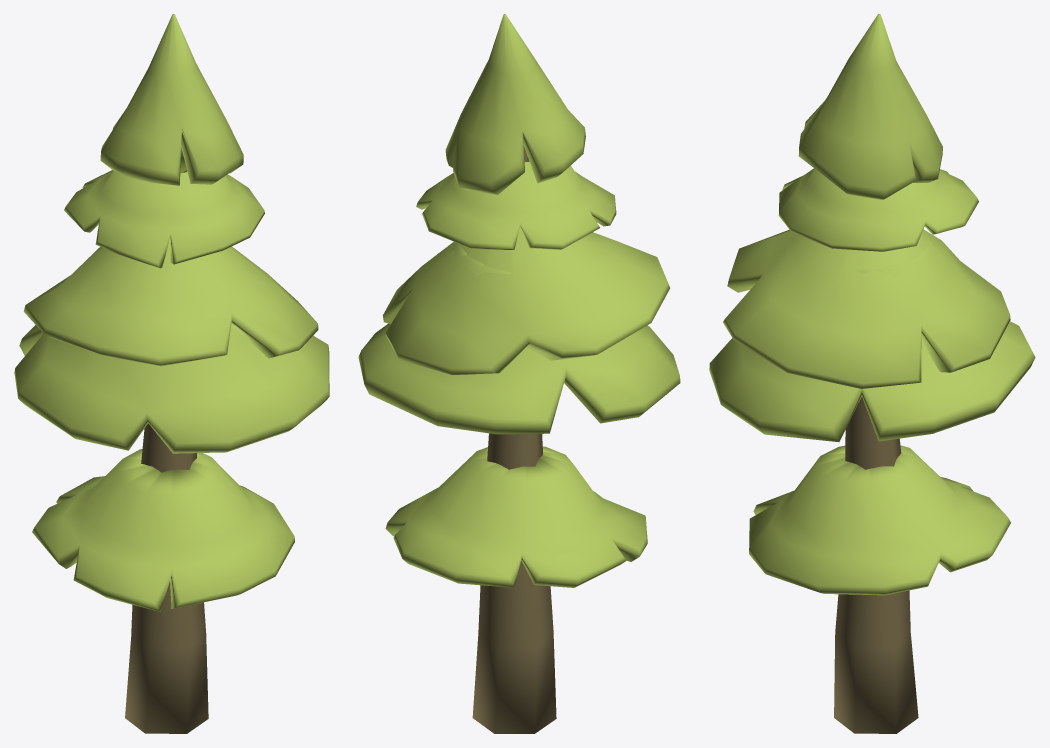
The model's file is Tree_Tall1.fbx.
3 views of the same model, side by side, from view 1: azimuth 30°, elevation 25°; view 2: azimuth 150°, elevation 25°; view 3: azimuth 270°, elevation 25° (orthographic).
Parts seen in each view (by area): view 1: Trunk High.003; view 2: Trunk High.003; view 3: Trunk High.003.
Part boxes in pixels (bbox=[...]): Trunk High.003: bbox=[14, 14, 329, 733]; Trunk High.003: bbox=[358, 14, 680, 733]; Trunk High.003: bbox=[709, 14, 1035, 733].
Size of the model in its own units: 86.93 by 207 by 86.25.
